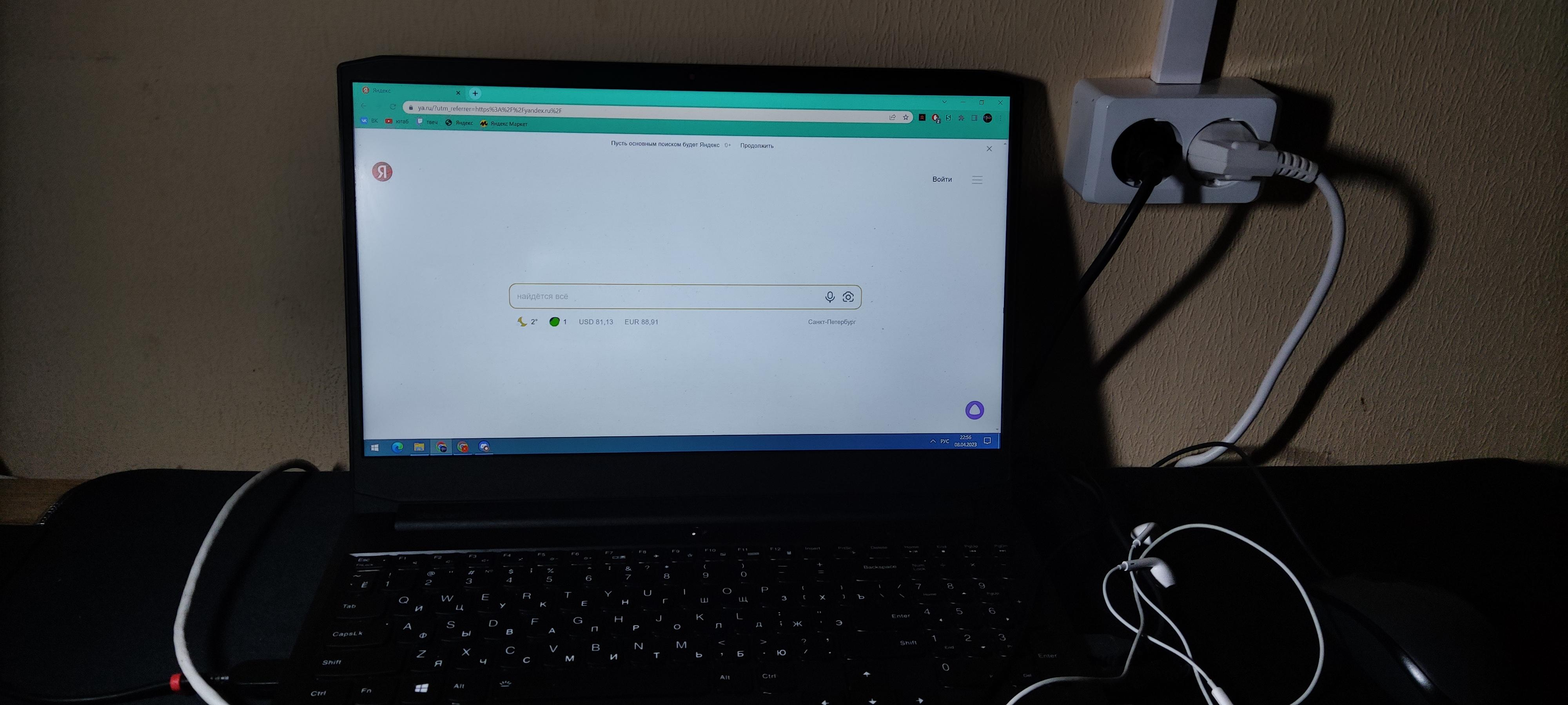monitor: (333, 47, 1027, 497)
